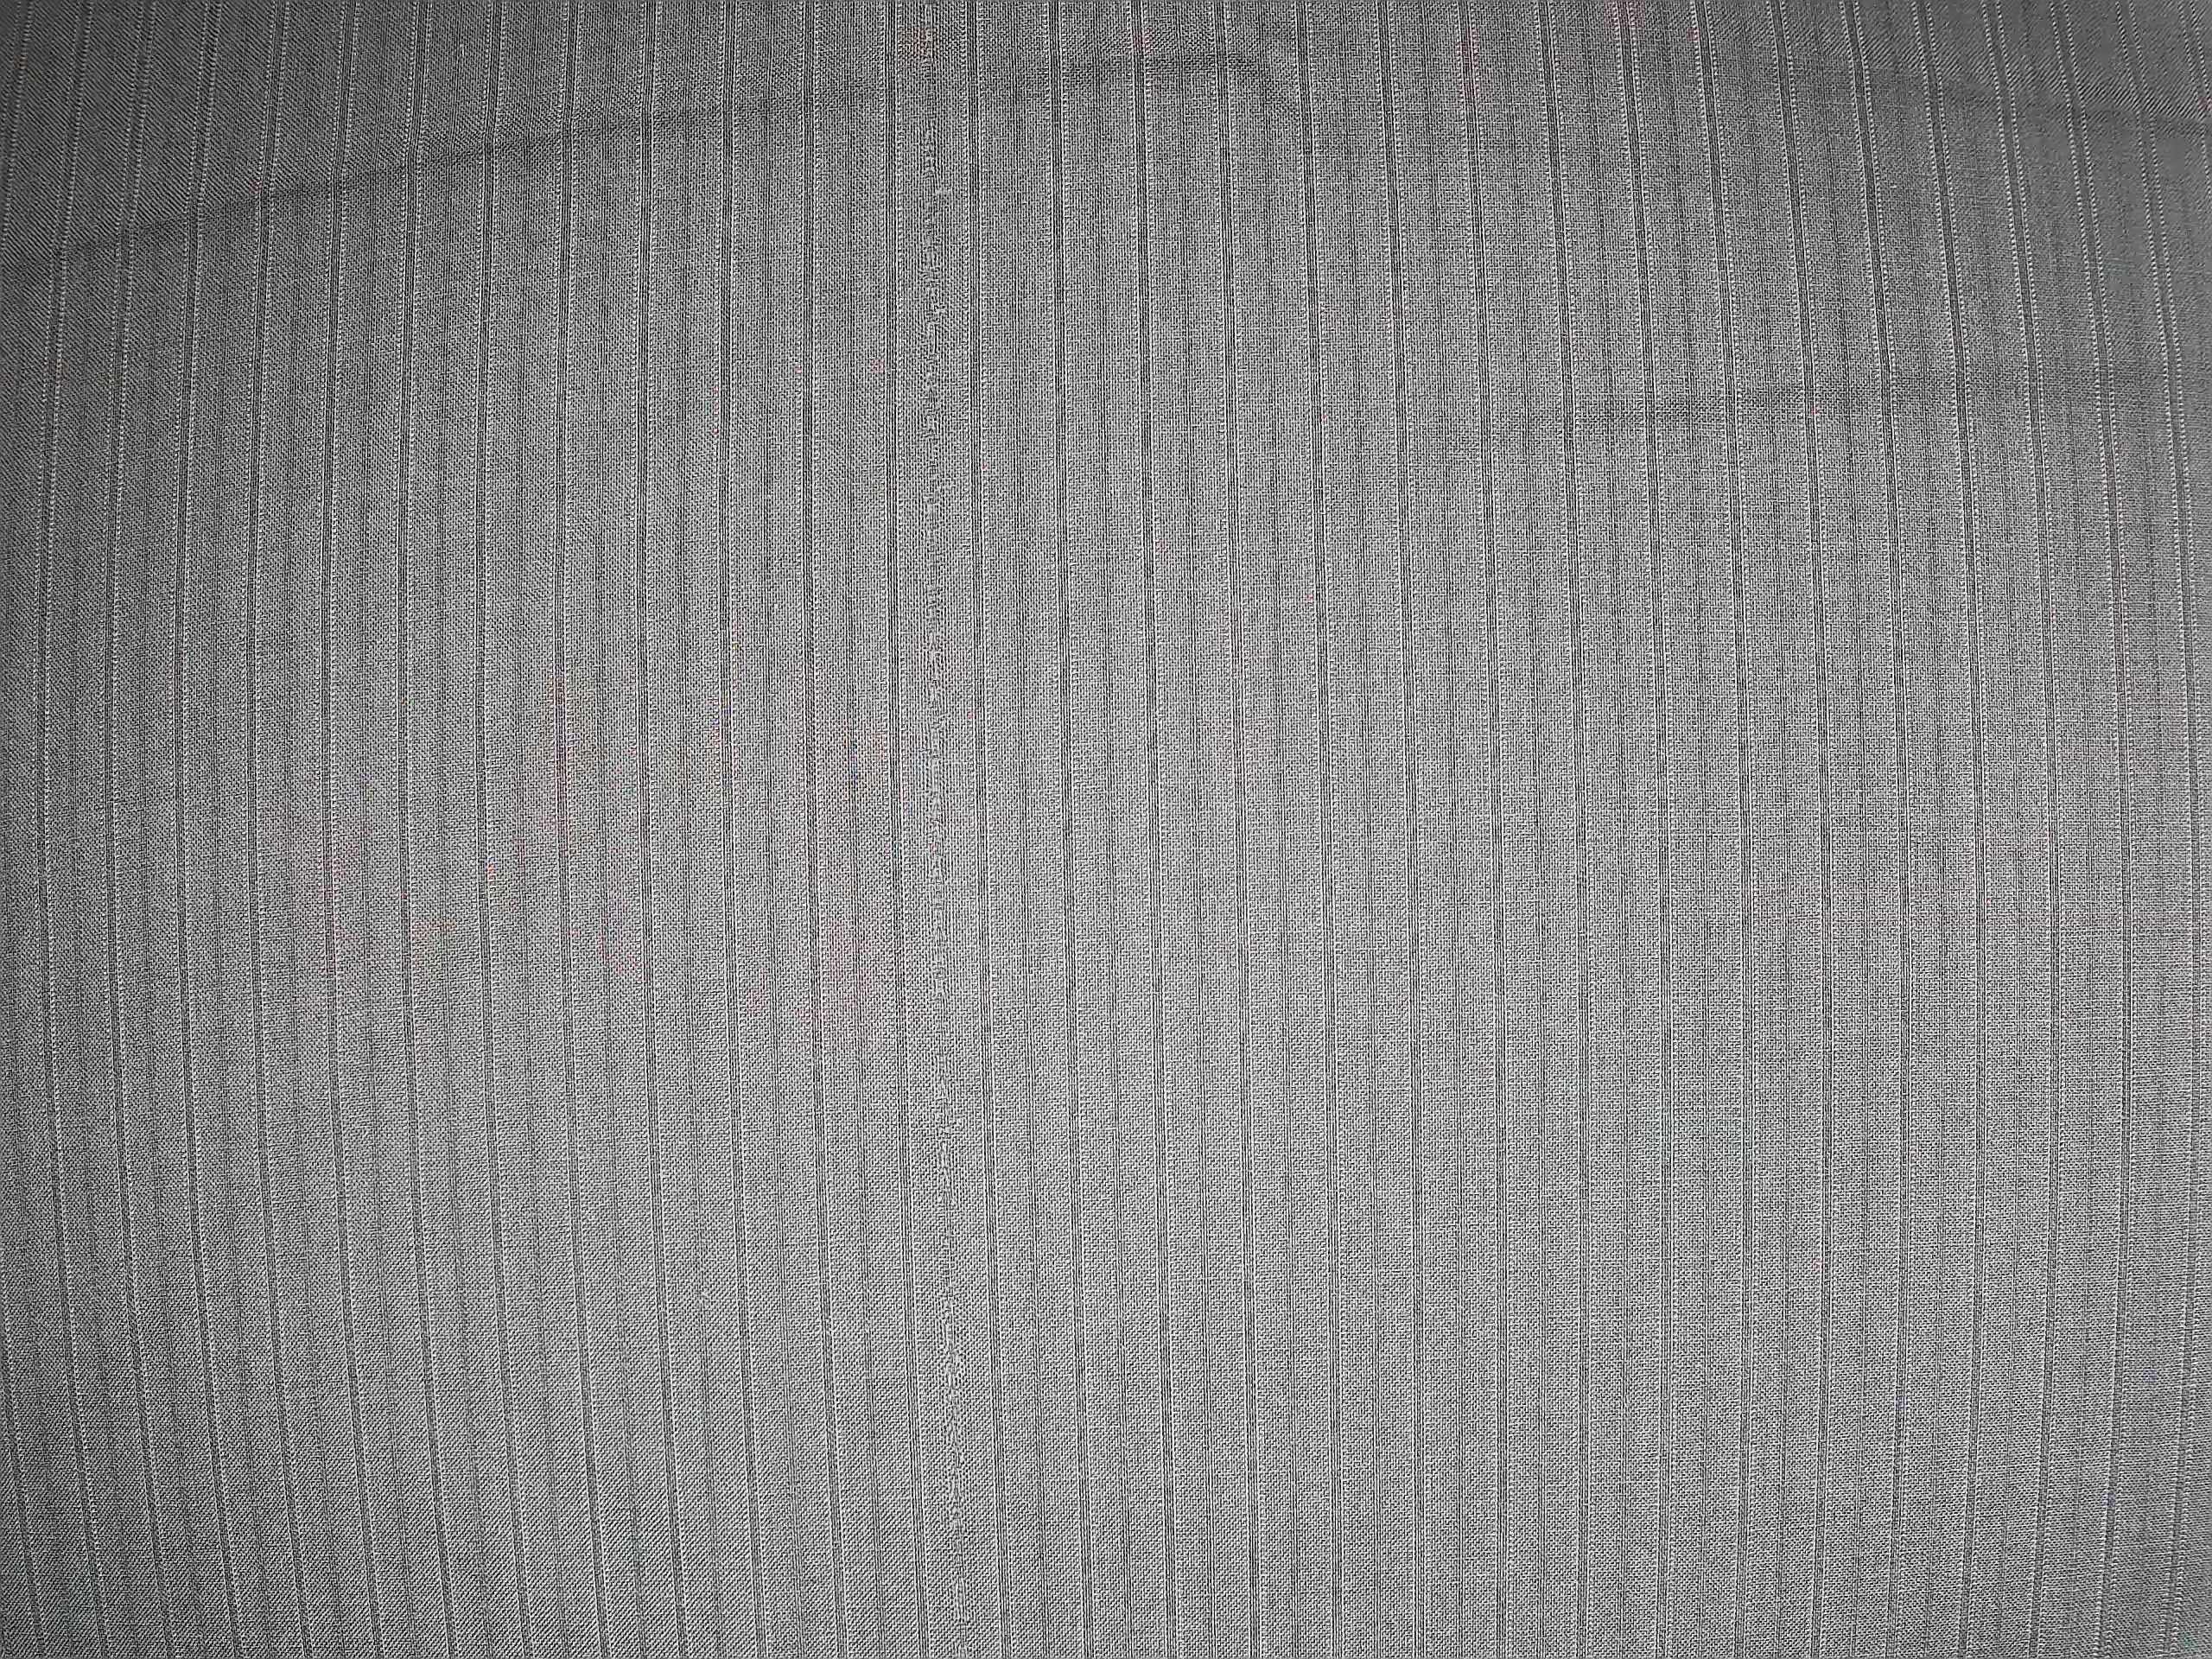jumps: (911, 9, 967, 1640)
